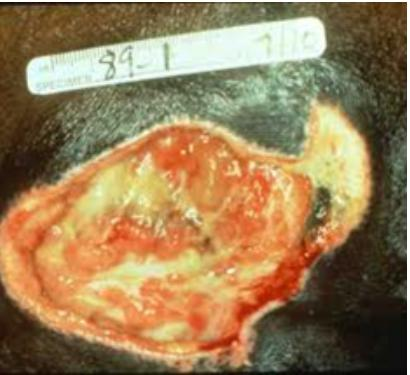Stage4: (0, 67, 408, 355)
